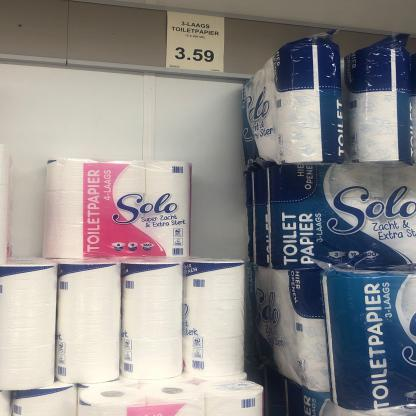prtg: (167, 12, 226, 73)
